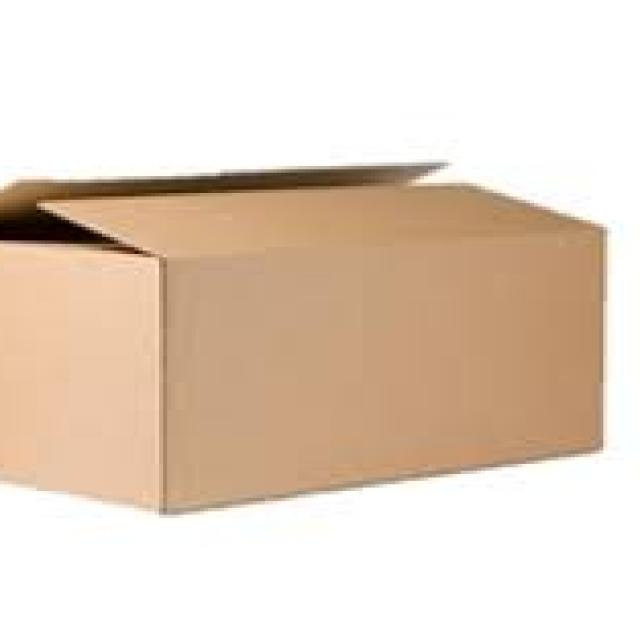organic: (3, 162, 623, 514)
